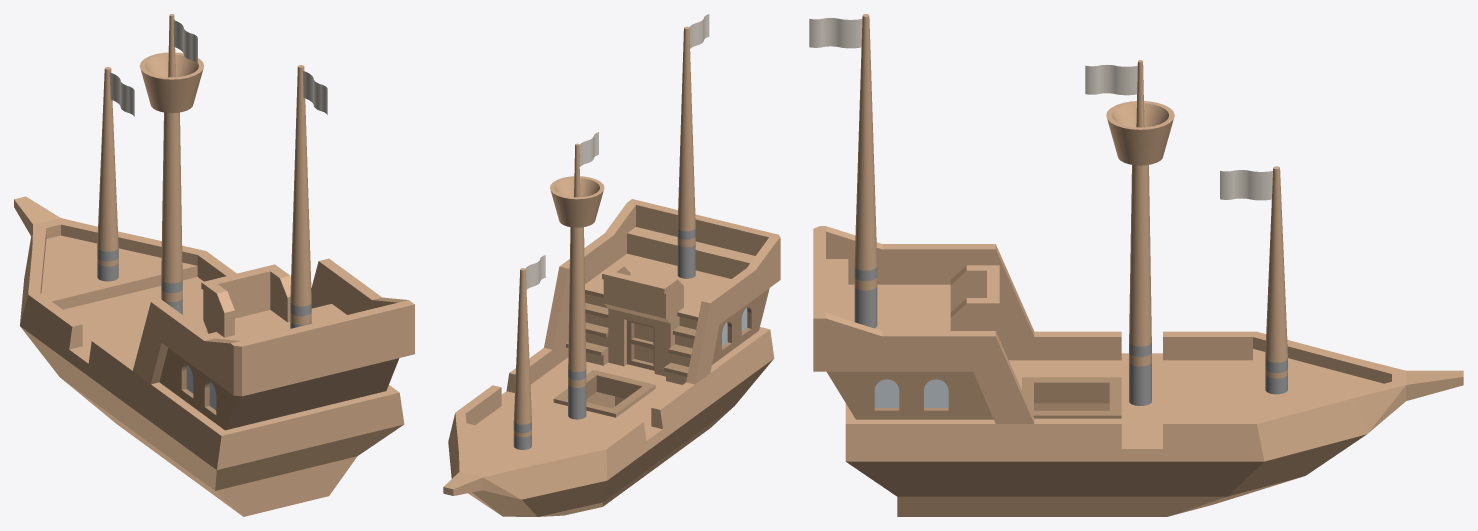
File: ship.gltf
The picture shows the model from 3 angles, left to right: view 1: azimuth 30°, elevation 25°; view 2: azimuth 150°, elevation 25°; view 3: azimuth 270°, elevation 25°; orthographic projection. The views are drawn at different scales.
Visible parts, largest first — view 1: ship_light_8angles; view 2: ship_light_8angles; view 3: ship_light_8angles.
Boxes of the visible parts, x1=… form: ship_light_8angles: x1=14, y1=14, x2=414, y2=516; ship_light_8angles: x1=443, y1=14, x2=780, y2=516; ship_light_8angles: x1=809, y1=14, x2=1463, y2=516.
Bounding box in the file's own units: 2.85 × 6.55 × 8.1.
